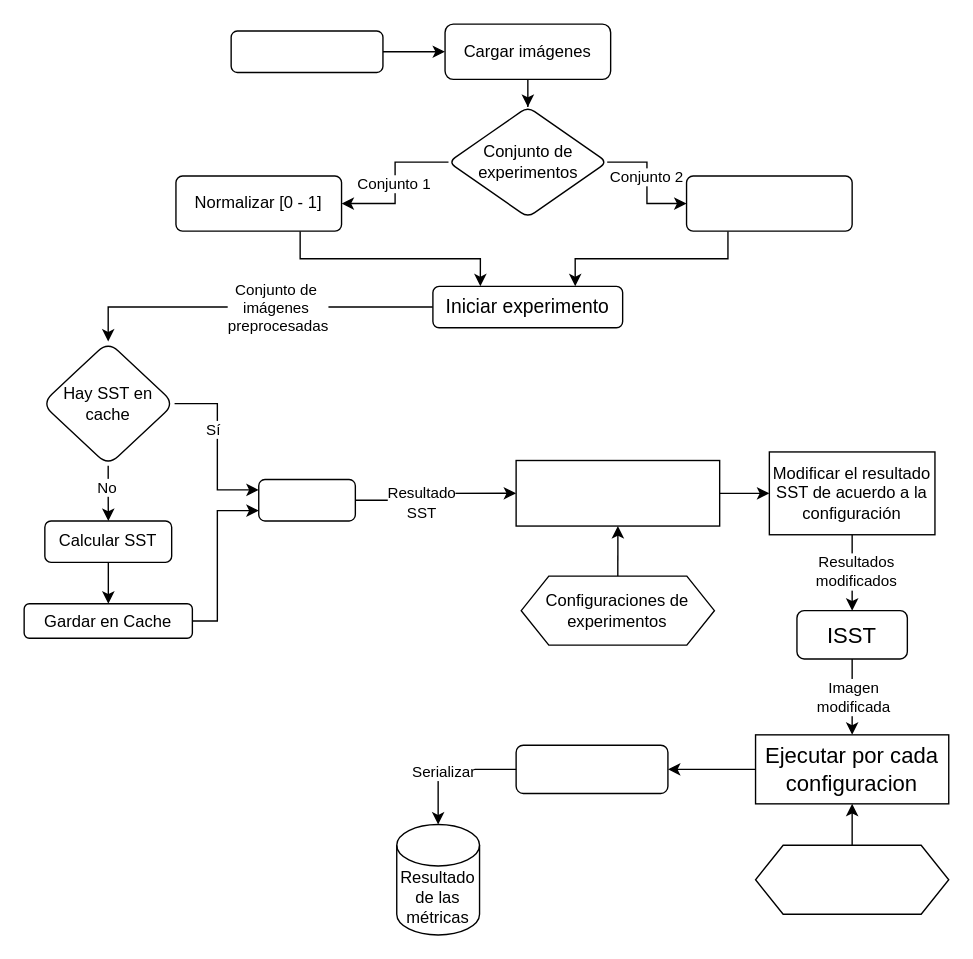
Image size: 973x959. Some labels were removed from this diagram. The box of each missing label's shape, as (x1, y1, x2, y2) in pixels:
Aplicar ventana de valores: (685, 175, 852, 231)
Calcular métrica: (515, 744, 668, 793)
Configuraciones de métricas: (754, 844, 949, 914)
Ejecutar por cada configuración: (515, 459, 720, 526)
Inicio: (230, 30, 383, 72)
Recuperar: (257, 478, 355, 521)
